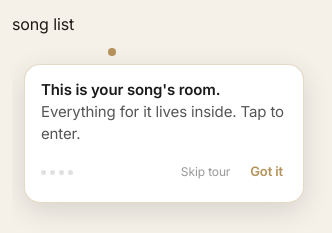
Scenario: CoachMark › on the final beat, Got it shows the completion line then dismisses
Click the button "Got it" at (267, 172), box [246,154,287,190]
Wait 1700 ms
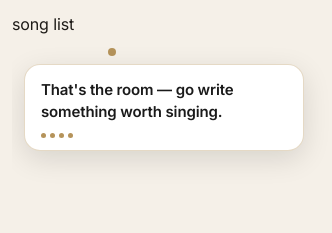
Result: the text "That's the room — go write something worth singing." is shown at [41,80,234,121]
Result: the element named "Tour complete" is shown at [41,132,73,138]
Result: the button "Got it" is gone
